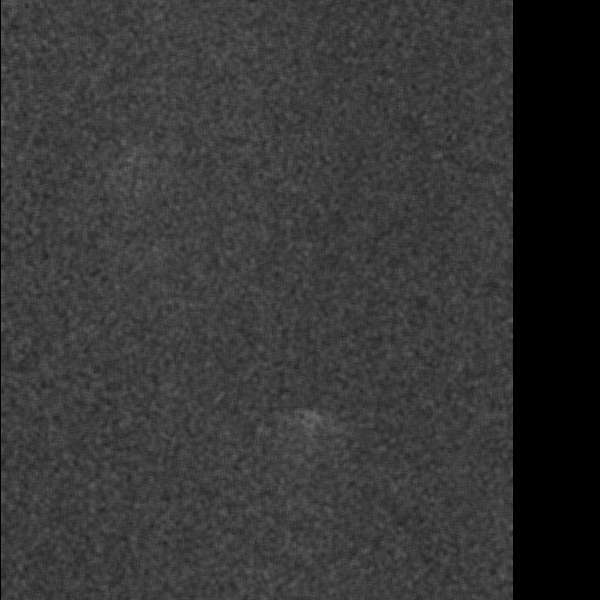spark: (310, 102, 359, 202), (318, 397, 341, 515), (271, 544, 307, 595), (234, 388, 263, 449), (289, 495, 321, 548), (329, 318, 354, 375), (419, 486, 437, 549), (303, 261, 332, 300), (335, 457, 354, 508), (295, 326, 327, 355), (84, 411, 103, 458), (287, 203, 320, 222)
